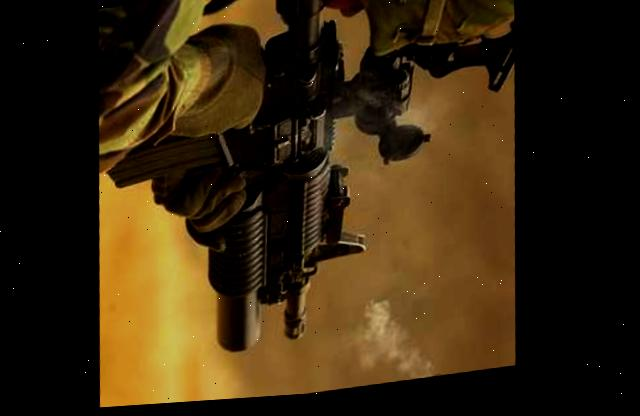rifle: (118, 0, 412, 409)
